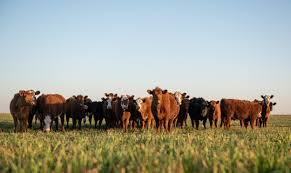cow: (220, 98, 277, 129), (150, 88, 181, 131), (9, 88, 41, 129), (35, 93, 66, 126), (65, 94, 90, 126), (118, 97, 138, 132), (188, 96, 210, 127), (133, 98, 153, 127), (174, 92, 190, 127), (103, 92, 117, 130), (86, 98, 104, 127), (207, 99, 221, 127)
